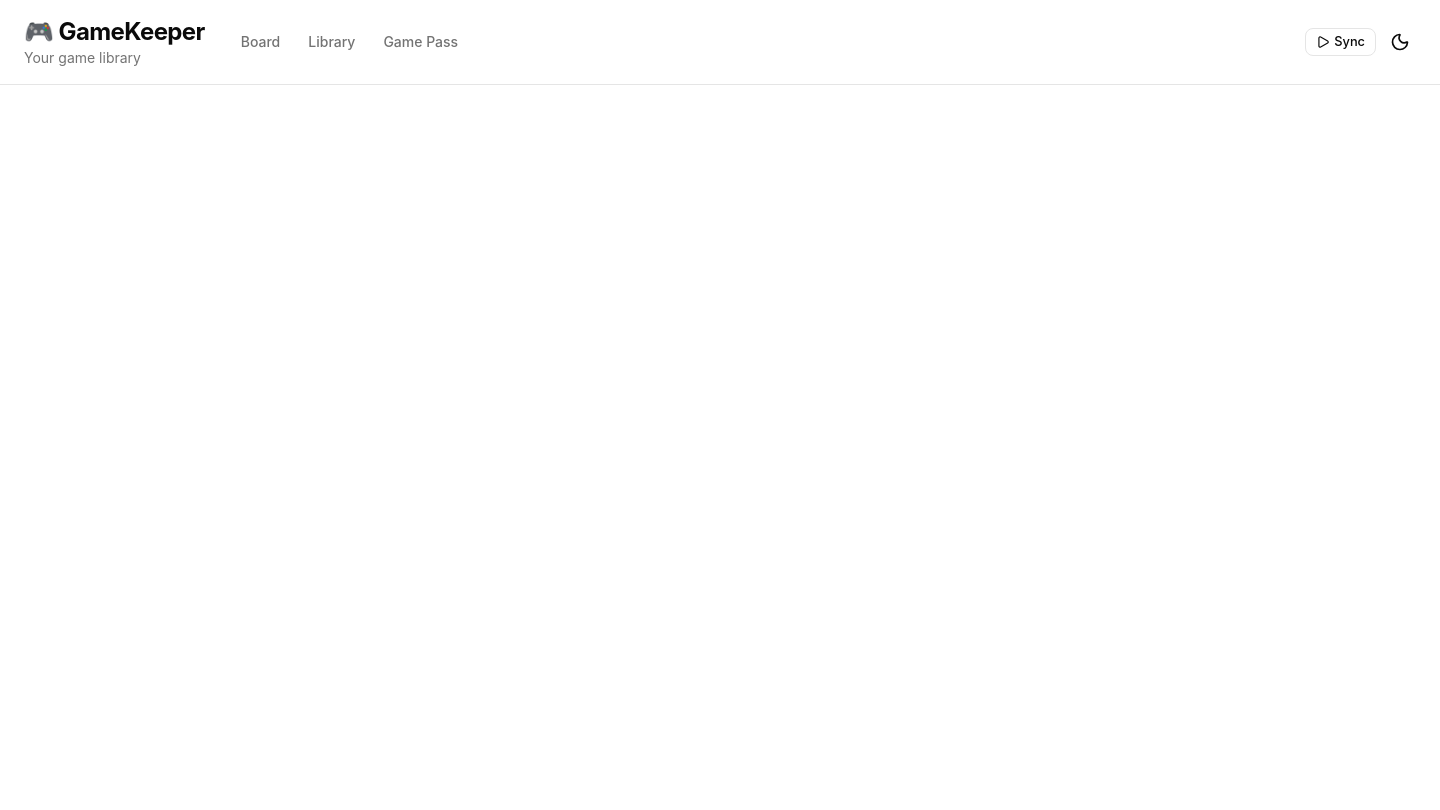
Test case: SyncPanel › renders the checklist from a mid-run snapshot with progress counters
Click the button "Sync" at coordinates (1341, 42), box [1305, 28, 1376, 56]
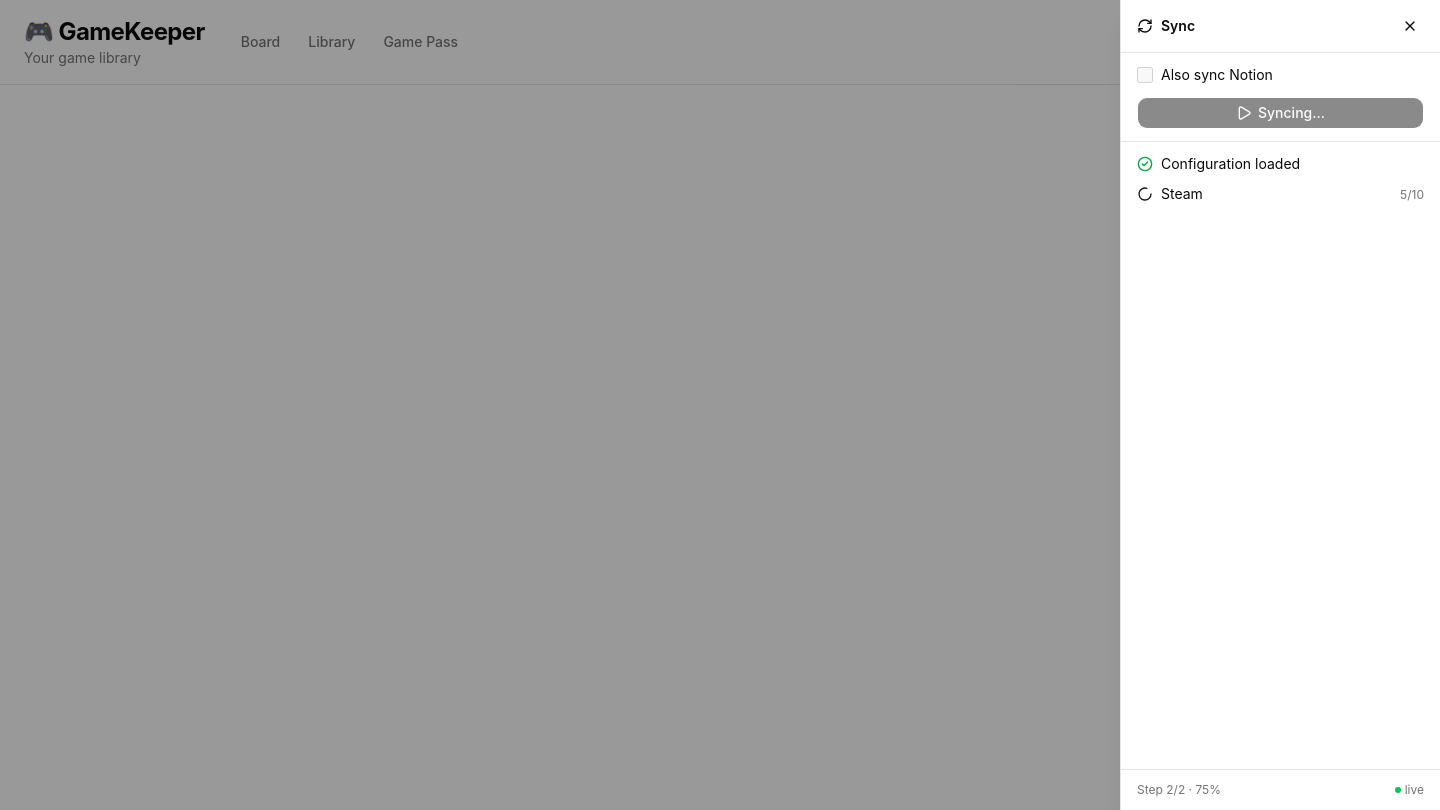
Result: the text "Configuration loaded" is shown at [1161, 154, 1300, 174]
Result: the text "Steam" is shown at [1161, 184, 1203, 204]
Result: the text "5/10" is shown at [1400, 187, 1424, 203]
